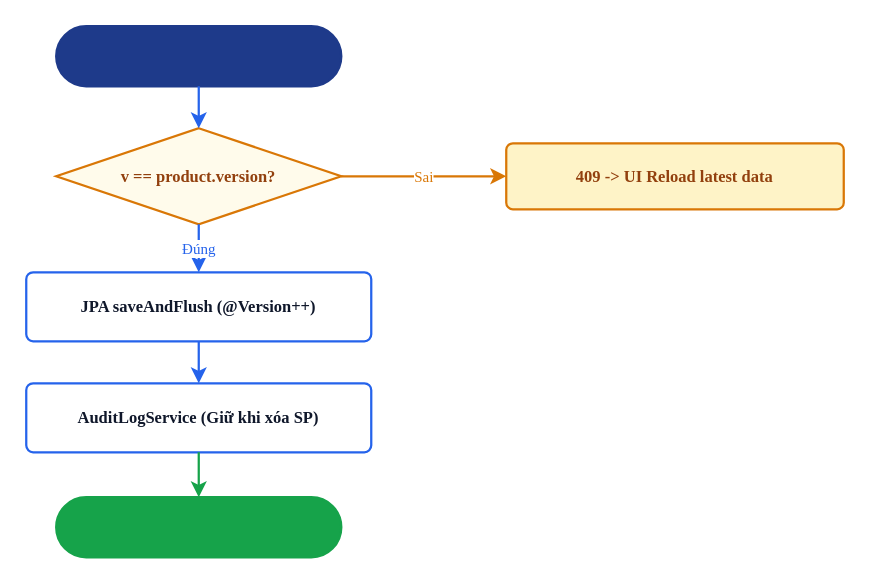
This 872x585 diagram has some shape labels left out. Each missing label, with the centre of its shape:
200 / 201 Thành công: [198,526]
Client gửi PUT / Adjust (v): [198,55]
